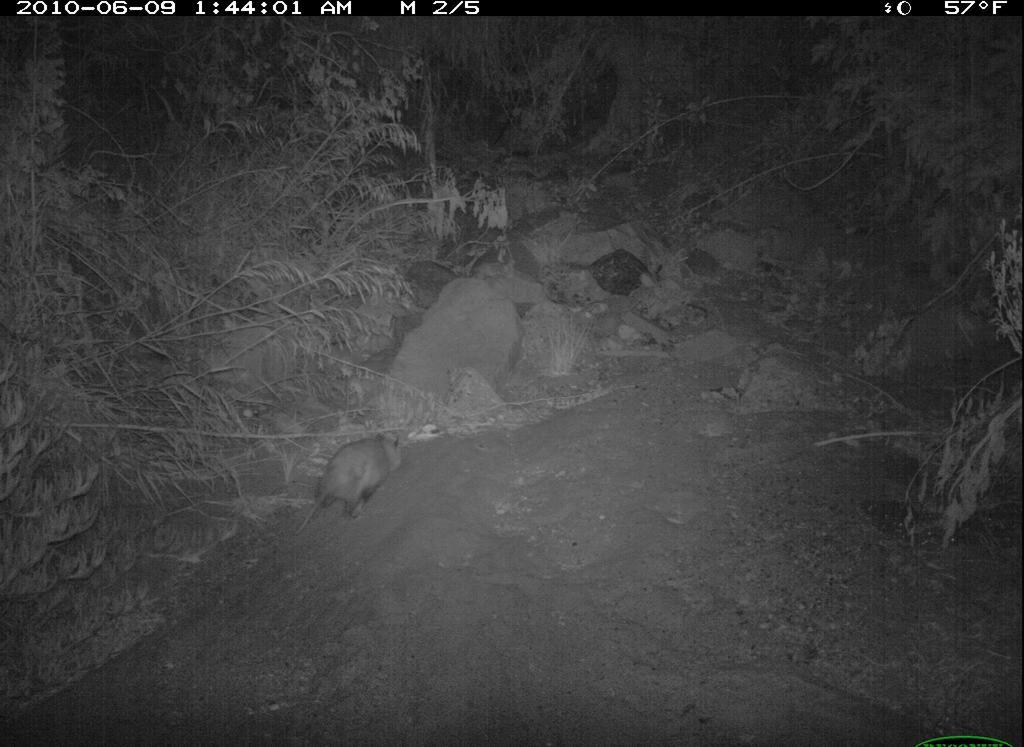opossum: (271, 424, 406, 537)
